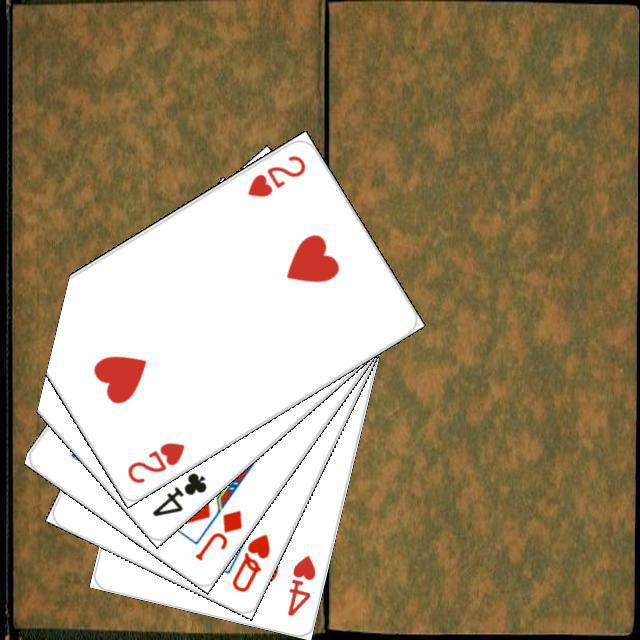2h: (242, 150, 308, 199), (122, 437, 187, 485)
4c: (147, 467, 209, 519)
4h: (282, 550, 318, 618)
Jd: (189, 504, 244, 562)
Qh: (226, 528, 272, 594)
